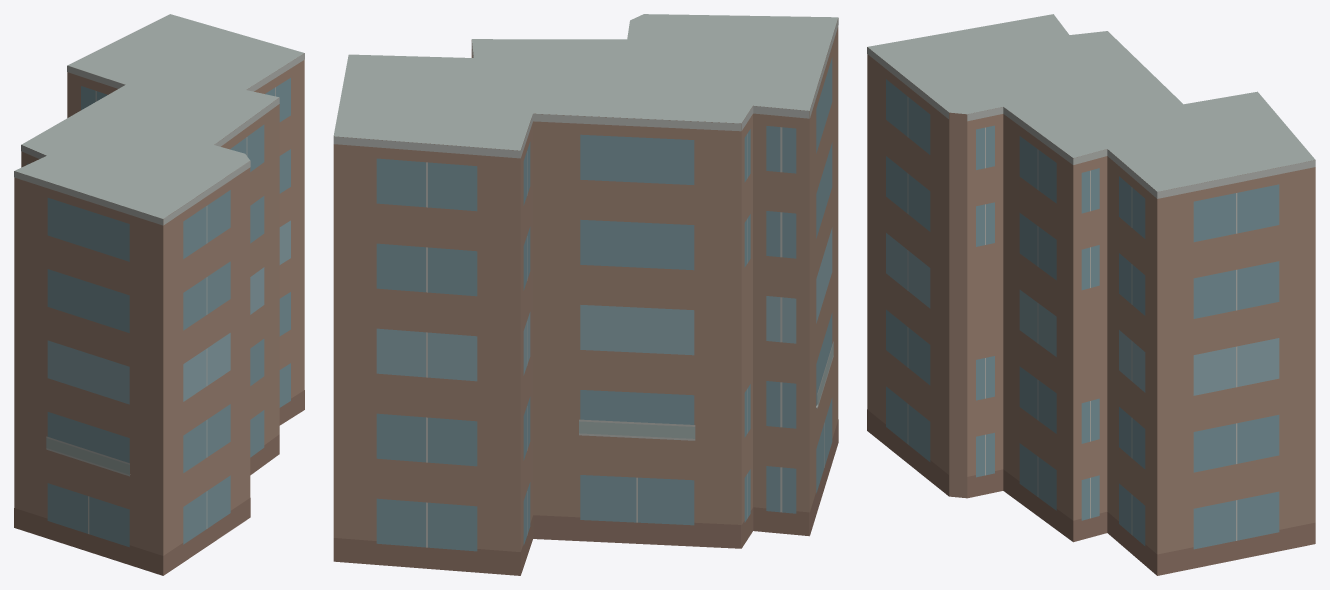
File: survey-upis-32935539.glb
3 renders of one model, left to right at view 1: azimuth 30°, elevation 25°; view 2: azimuth 150°, elevation 25°; view 3: azimuth 270°, elevation 25°, orthographic. The views are drawn at different scales.
Visible parts, largest first — view 1: survey-upis-32935539.tmp; view 2: survey-upis-32935539.tmp; view 3: survey-upis-32935539.tmp.
Part boxes in pixels (x1,y1,x2,y2): survey-upis-32935539.tmp: [14, 14, 304, 575]; survey-upis-32935539.tmp: [333, 14, 838, 575]; survey-upis-32935539.tmp: [867, 14, 1315, 575].
Size of the model in its own units: 13.22 by 13.3 by 14.09.
